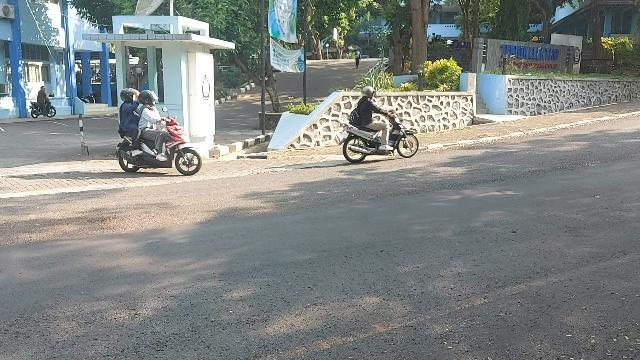helm: (140, 91, 160, 107), (122, 90, 140, 103), (363, 87, 376, 99)
motor: (116, 108, 202, 177), (340, 109, 420, 164)
